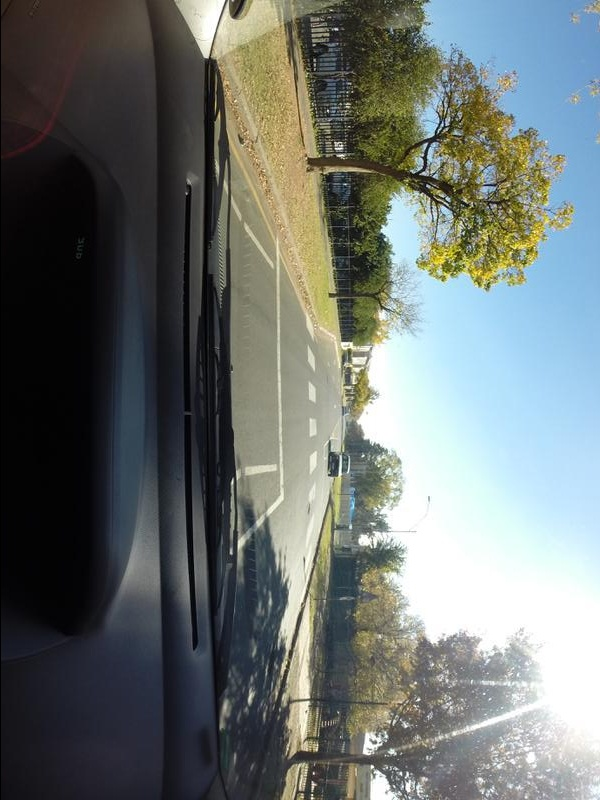pothole: (299, 503, 316, 522)
